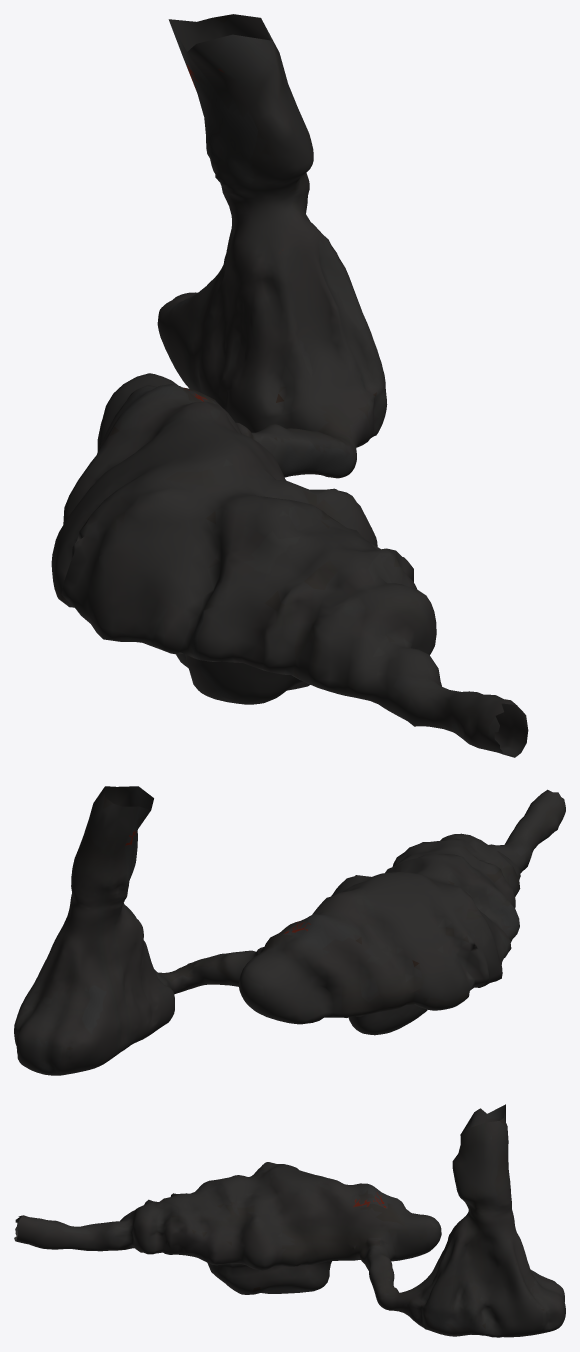
The model's file is BustilloCave.fbx.
3 renders of one model, top to bottom at view 1: azimuth 30°, elevation 25°; view 2: azimuth 150°, elevation 25°; view 3: azimuth 270°, elevation 25°, orthographic. The views are drawn at different scales.
Visible parts, largest first — view 1: Cave; view 2: Cave; view 3: Cave.
Boxes of the visible parts, x1=… form: Cave: x1=51, y1=14, x2=528, y2=757; Cave: x1=14, y1=786, x2=565, y2=1075; Cave: x1=14, y1=1104, x2=565, y2=1337.
Size of the model in its own units: 9749 by 8853 by 19360.
1 material, 1 textured.
